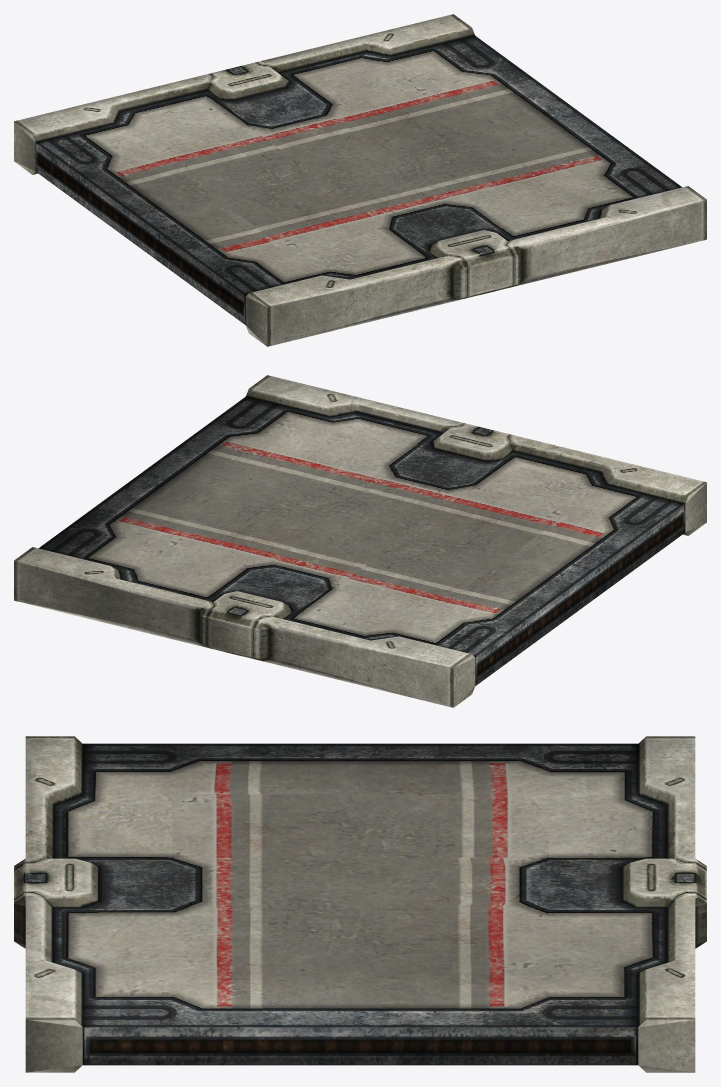
File: catwalk_white_straight_short_nohandrail.dae
The picture shows the model from 3 angles, top to bottom: view 1: azimuth 30°, elevation 25°; view 2: azimuth 150°, elevation 25°; view 3: azimuth 270°, elevation 25°; orthographic projection. The views are drawn at different scales.
Visible parts, largest first — view 1: polySurface92; view 2: polySurface92; view 3: polySurface92.
Part boxes in pixels (<box>): polySurface92: <box>14,14,706,346</box>; polySurface92: <box>14,375,706,707</box>; polySurface92: <box>14,736,706,1072</box>.
Size of the model in its own units: 2 by 0.1745 by 2.07.
